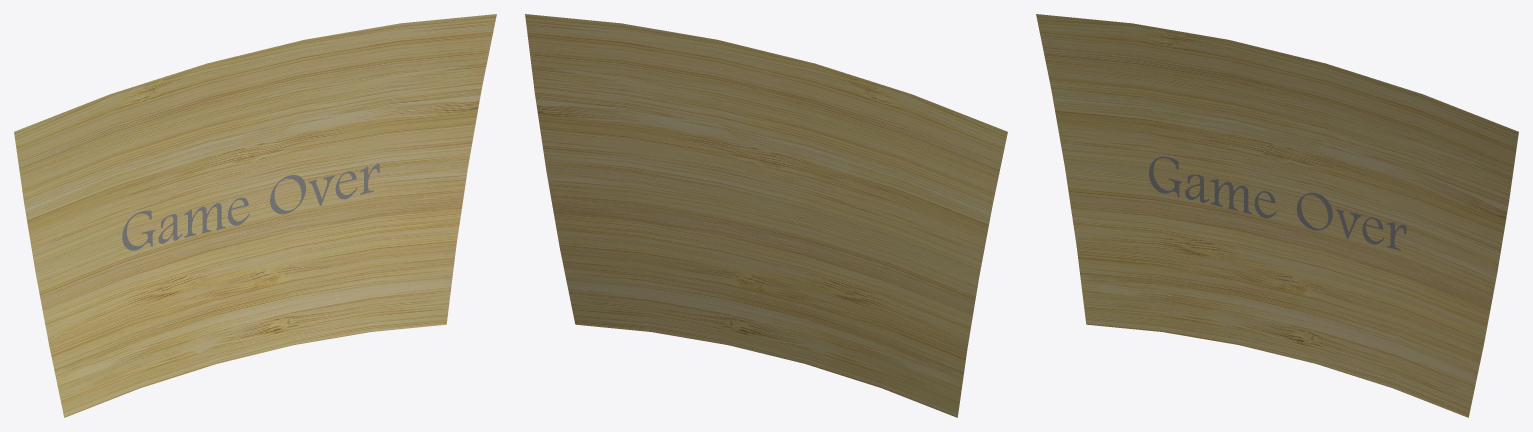
File: game_over.FBX
3 renders of one model, left to right at view 1: azimuth 30°, elevation 25°; view 2: azimuth 150°, elevation 25°; view 3: azimuth 330°, elevation 25°, orthographic.
Visible parts, largest first — view 1: Plane003, TextPlus003; view 2: Plane003; view 3: Plane003, TextPlus003.
Boxes of the visible parts, left/top/right/bottom form: Plane003: left=14, top=14, right=496, bottom=417; TextPlus003: left=122, top=164, right=379, bottom=250; Plane003: left=525, top=14, right=1007, bottom=417; Plane003: left=1036, top=14, right=1518, bottom=417; TextPlus003: left=1149, top=156, right=1406, bottom=250.
Bounding box in the file's own units: 131 × 82.95 × 1.72.
2 materials, 1 textured.
